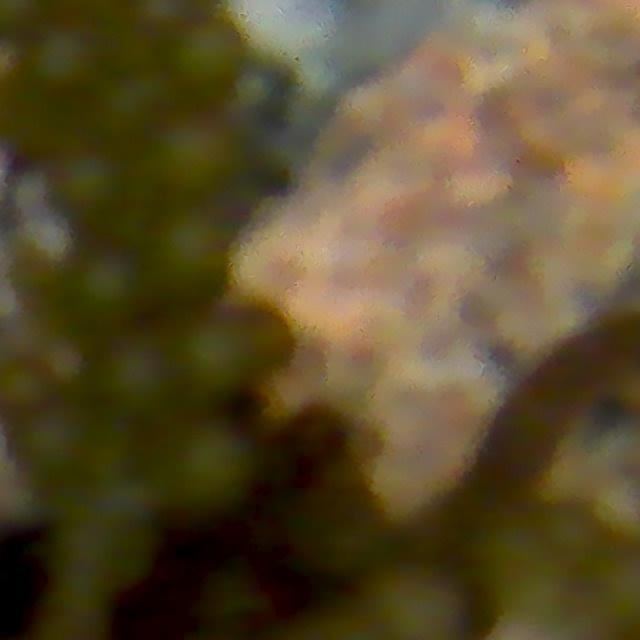SeaGrape: (142, 119, 241, 206), (371, 565, 473, 640), (172, 420, 258, 507), (146, 213, 231, 301), (178, 314, 262, 397), (55, 255, 150, 326), (10, 408, 91, 485), (92, 345, 169, 423), (100, 62, 178, 139), (29, 22, 103, 96), (179, 12, 236, 88), (55, 159, 117, 221), (541, 505, 602, 565), (227, 59, 283, 121), (38, 335, 94, 392), (0, 361, 51, 421), (133, 0, 194, 38)
